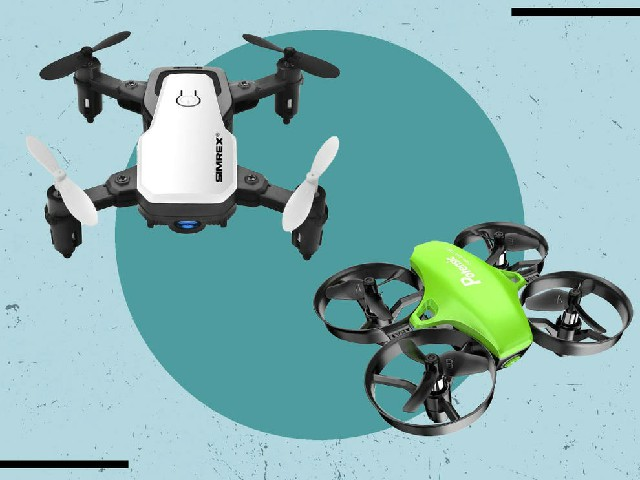maybay_khongnguoilai: (31, 28, 342, 276), (322, 220, 632, 439)
